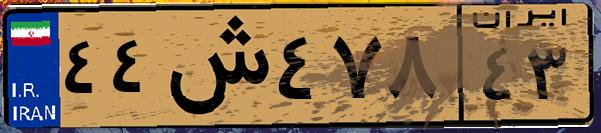3: (525, 38, 570, 115)
4: (270, 28, 330, 110), (57, 26, 110, 100), (475, 38, 525, 113), (110, 28, 158, 98)
7: (330, 28, 385, 110)
8: (385, 28, 445, 110)
ش: (158, 12, 270, 120)
